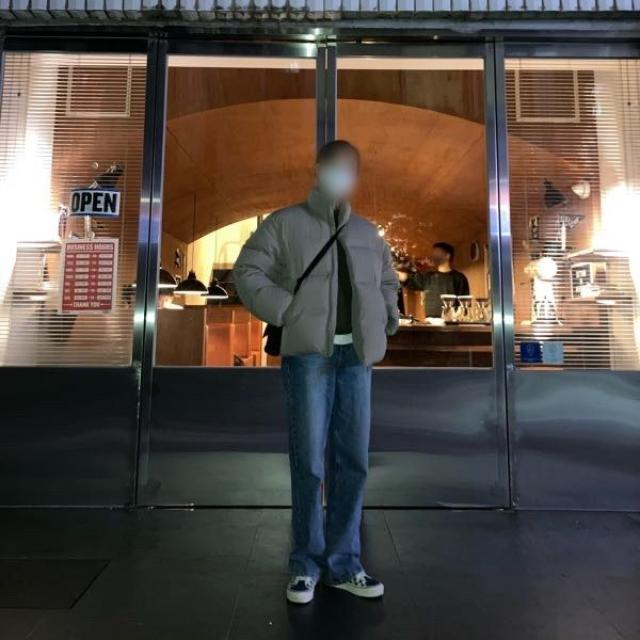denimpants: (283, 341, 376, 587)
padding: (232, 186, 403, 364)
